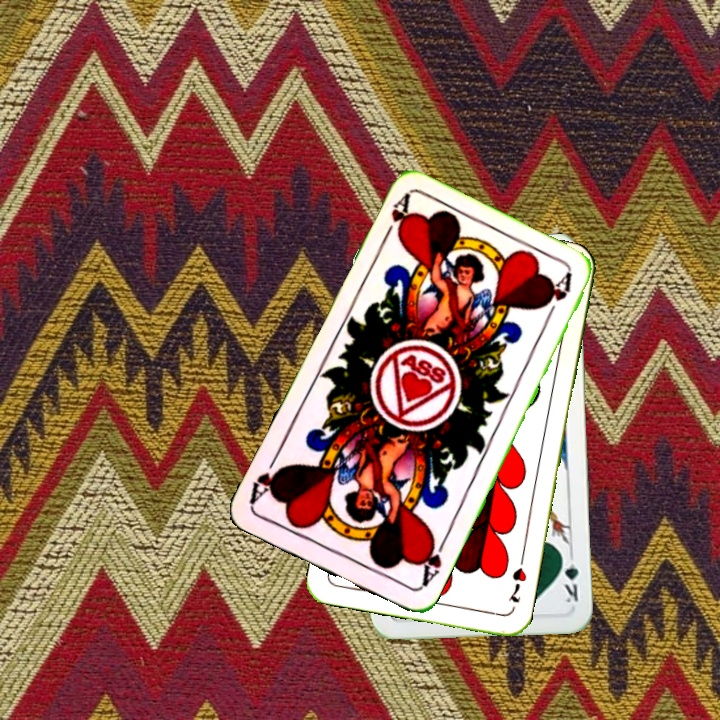GK: (558, 548, 582, 606)
H7: (504, 553, 530, 605)
HA: (415, 530, 449, 590), (377, 191, 413, 246)
